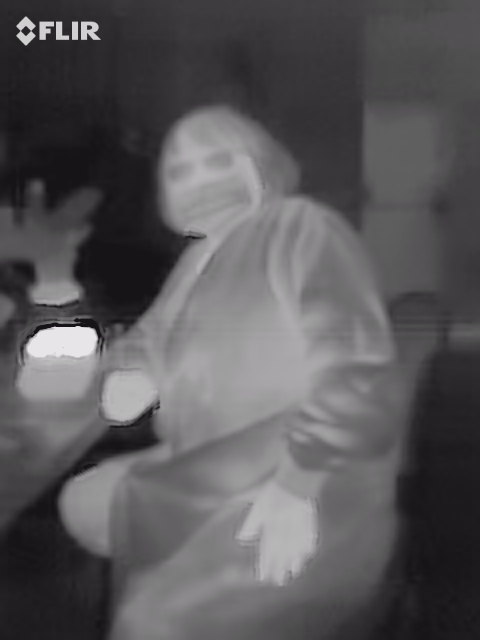head: (154, 105, 302, 236)
